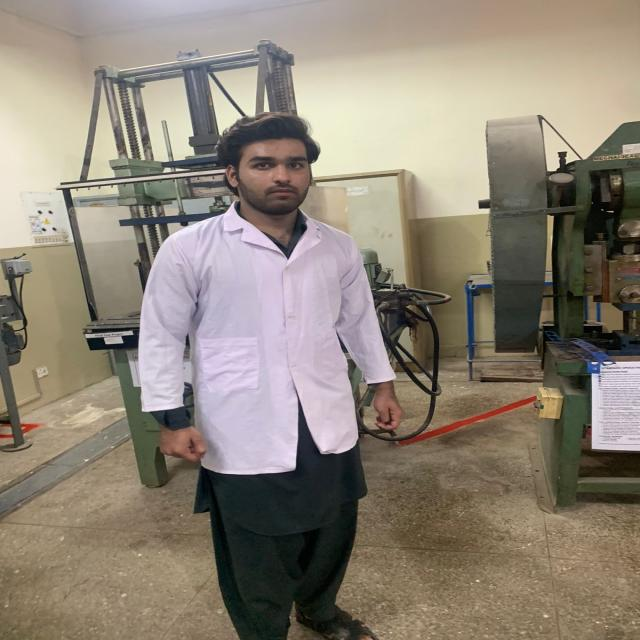labcoat: (135, 205, 409, 478)
